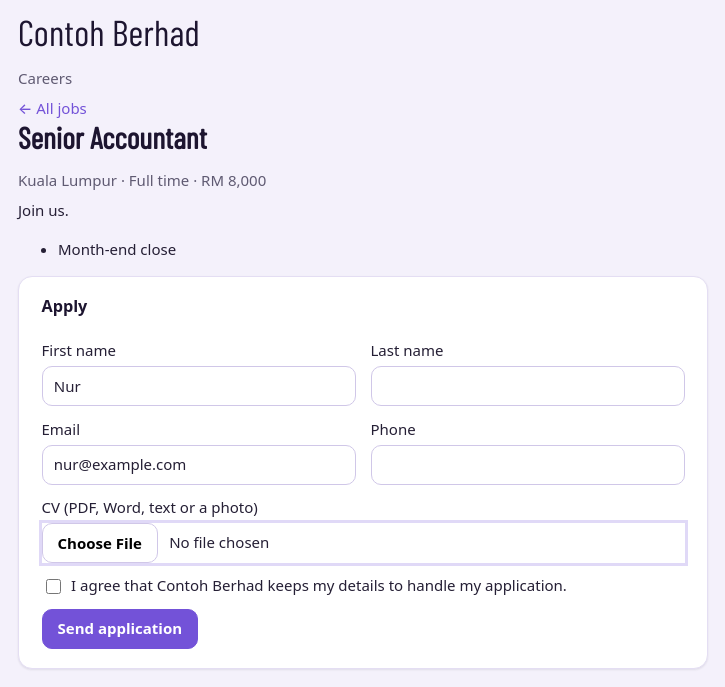
Scenario: careers page › sends the application with the CV, consent and the empty robot trap, then thanks
Earlier steps of the test are not shown.
Click the checkbox labelled "I agree that Contoh Berhad keeps my details".
click(53, 586)  # box x1=46 y1=578 x2=60 y2=594
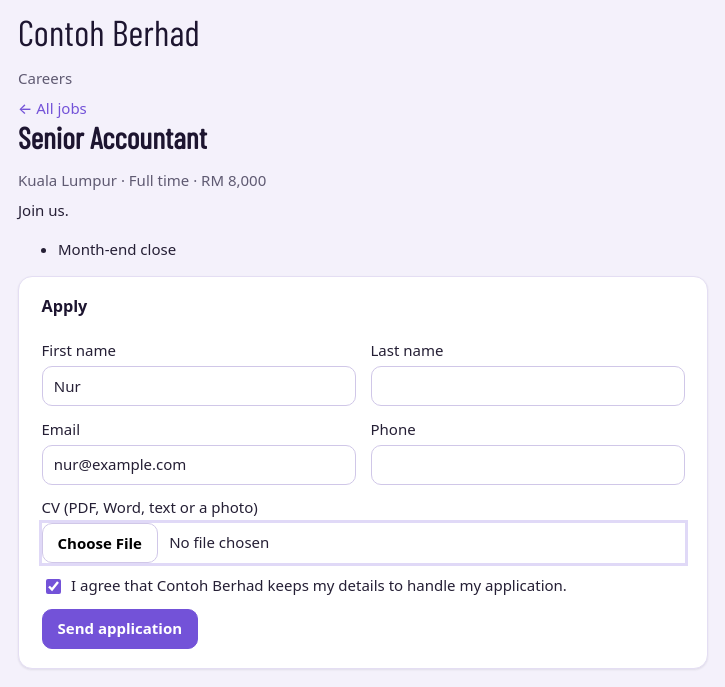
Click the button "Send application".
click(120, 629)  # box x1=42 y1=609 x2=198 y2=649
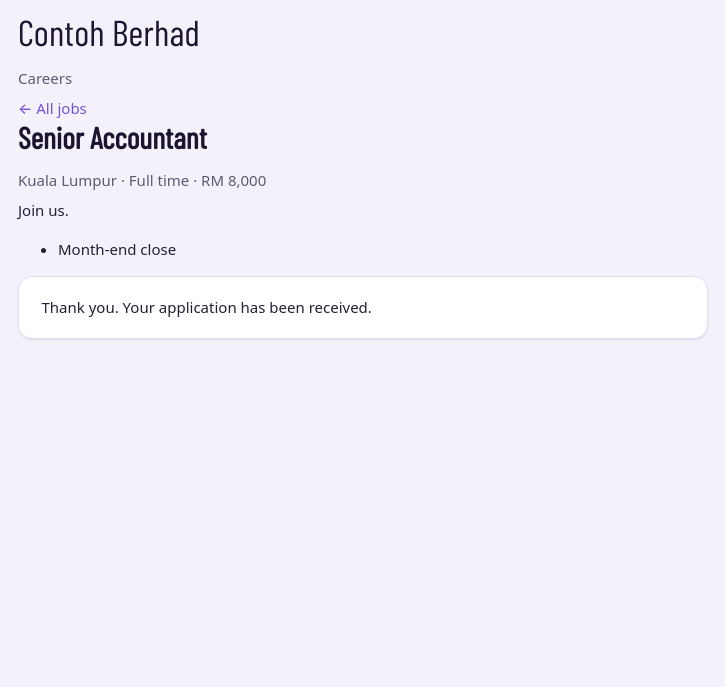
Check: the message "Thank you. Your application has been received." is shown, box x1=18 y1=276 x2=708 y2=339
